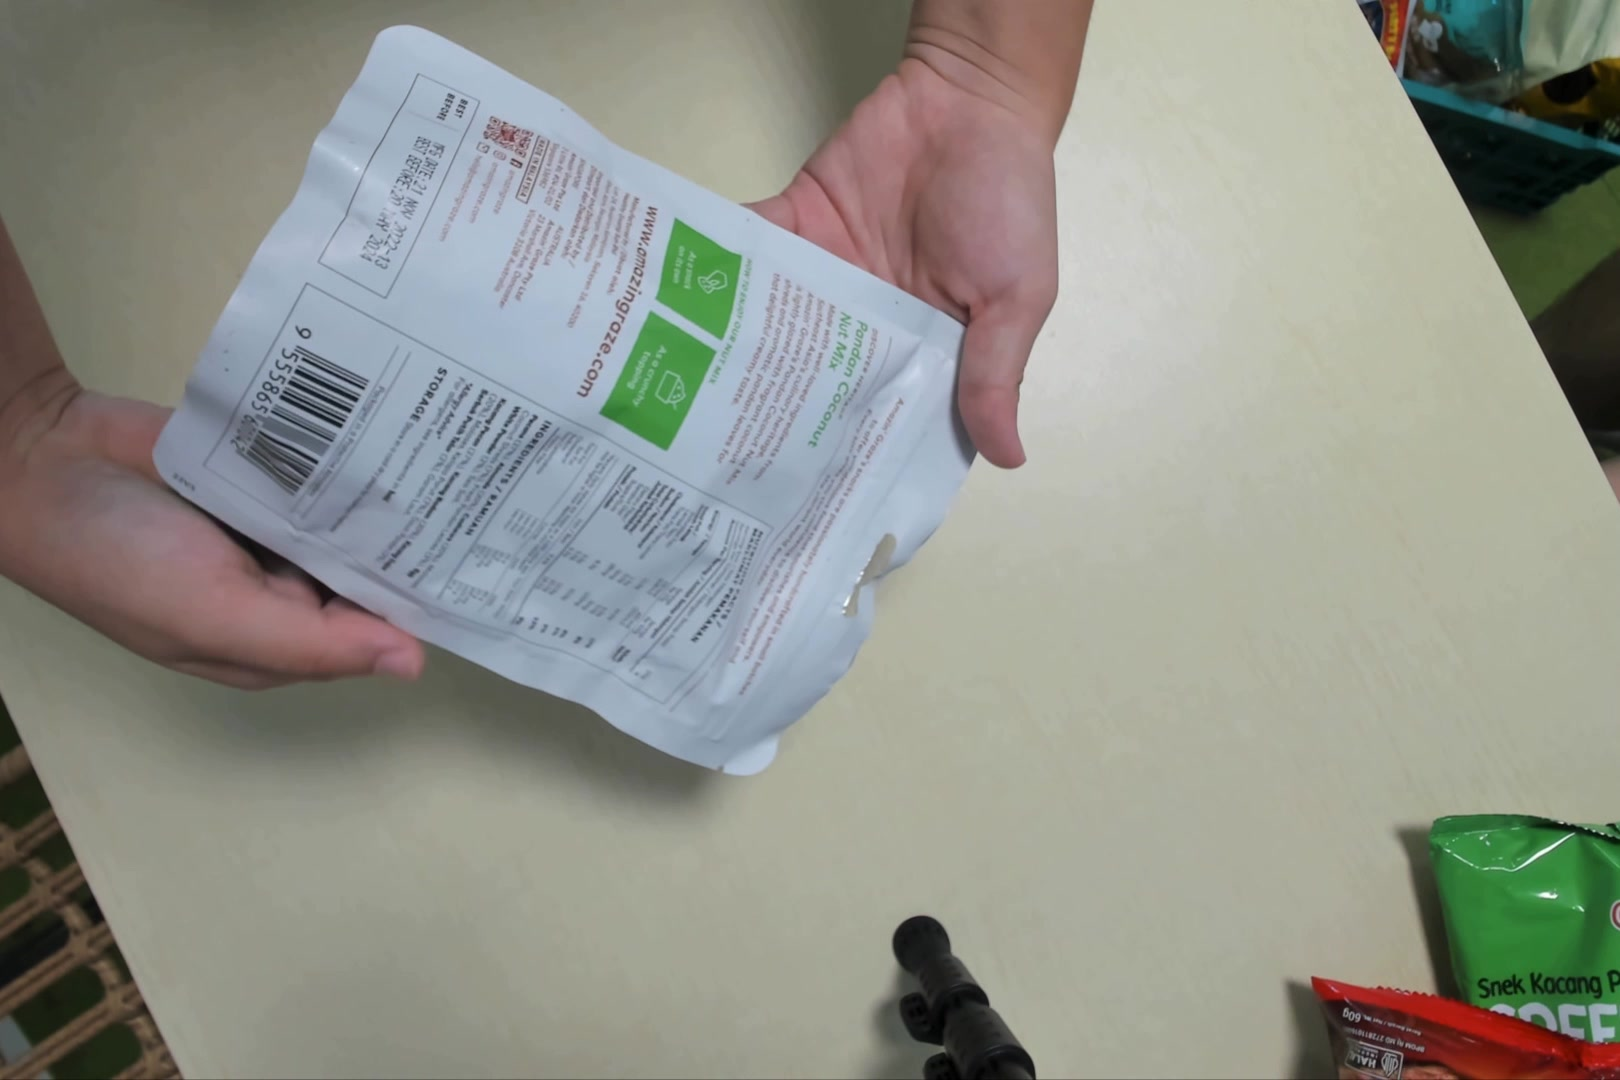Nuts_100-199g_Halal_NonHealthy: (169, 22, 974, 779)
